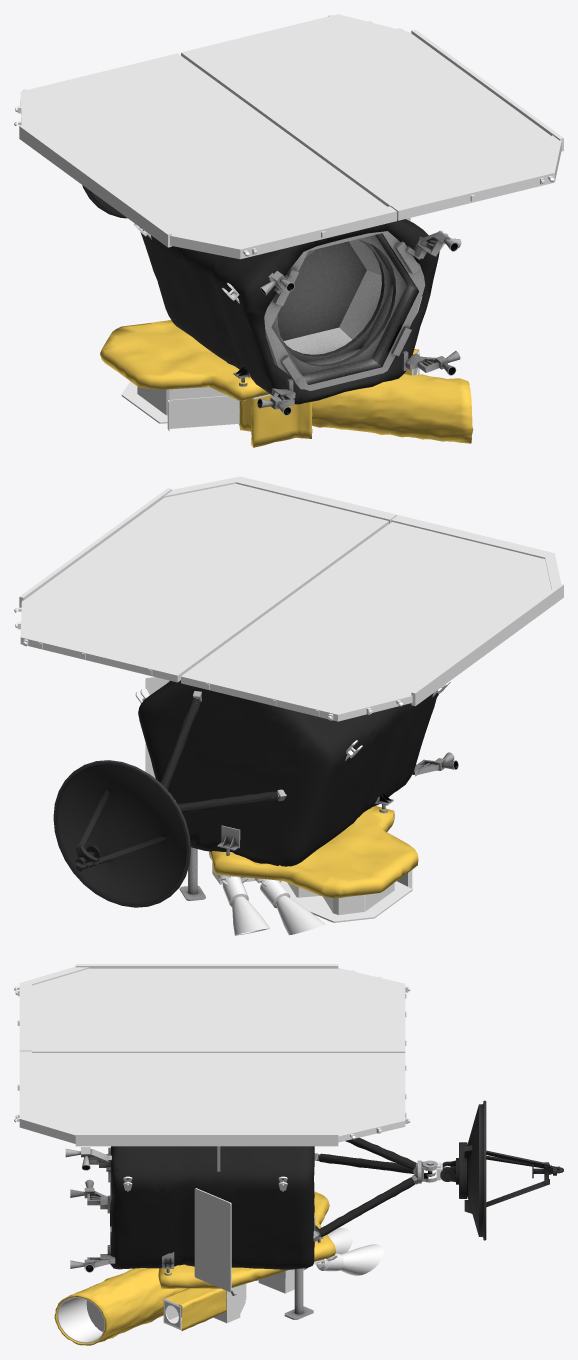
Rendered from deep_impact_wo_impactor.gltf.
The picture shows the model from 3 angles, top to bottom: view 1: azimuth 30°, elevation 25°; view 2: azimuth 150°, elevation 25°; view 3: azimuth 270°, elevation 25°; orthographic projection. The views are drawn at different scales.
Parts seen in each view (by area): view 1: shiny_panels, hole_AO, foil_gold, black_krinkle, tex_01; view 2: shiny_panels, black_krinkle, tex_01, dish_AO, foil_gold, hole_AO; view 3: shiny_panels, black_krinkle, tex_01, foil_gold, dish_AO, hole_AO.
Part boxes in pixels (<box>): shiny_panels: <box>20,14,551,243</box>; hole_AO: <box>233,231,461,415</box>; foil_gold: <box>100,320,473,447</box>; black_krinkle: <box>140,219,439,404</box>; tex_01: <box>14,15,563,431</box>; shiny_panels: <box>20,483,551,714</box>; black_krinkle: <box>138,680,438,866</box>; tex_01: <box>14,476,563,935</box>; dish_AO: <box>53,760,190,907</box>; foil_gold: <box>209,806,418,897</box>; hole_AO: <box>175,691,458,900</box>; shiny_panels: <box>32,968,405,1136</box>; black_krinkle: <box>110,1137,415,1269</box>; tex_01: <box>14,964,450,1343</box>; foil_gold: <box>54,1191,335,1345</box>; dish_AO: <box>440,1100,563,1240</box>; hole_AO: <box>65,1147,437,1319</box>.
Bounding box in the file's own units: 2.88 × 1.99 × 3.91.
7 materials, 3 textured.
